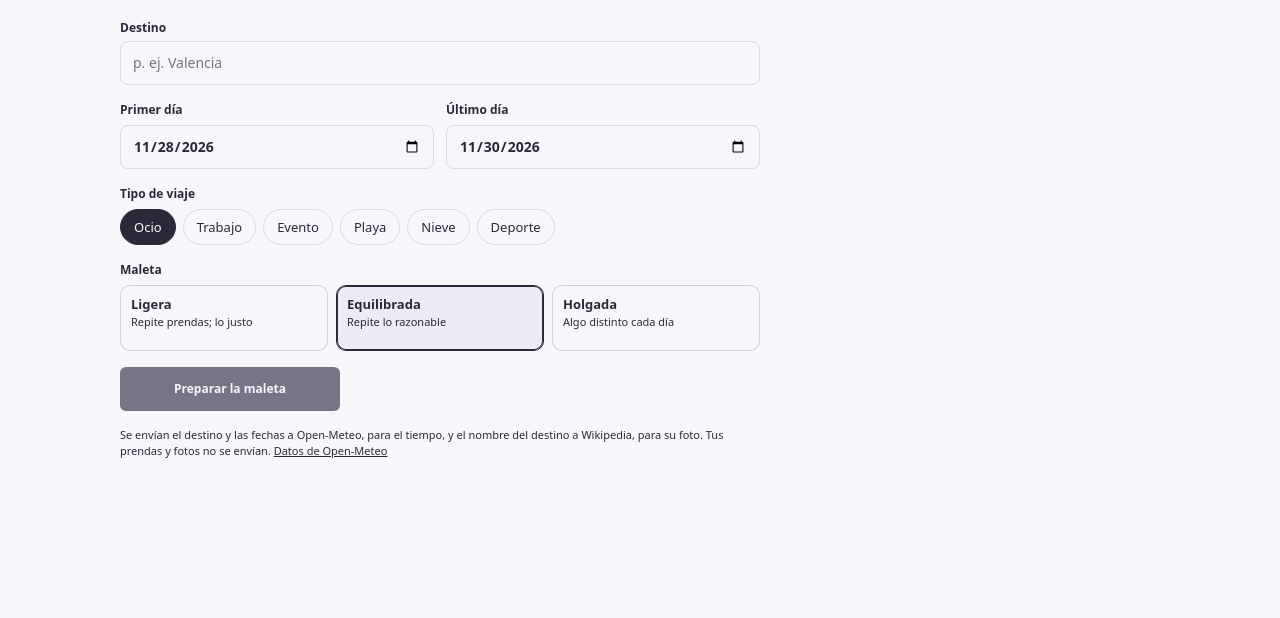
Scenario: TripPlanner › warns of what is in the wash only if the plan needs it, and offers to wear today's outfit
The width and height of the screenshot is (1280, 618).
Type "Valencia" into the dropdown labelled "Destino" at (440, 63), box [120,41,760,85]
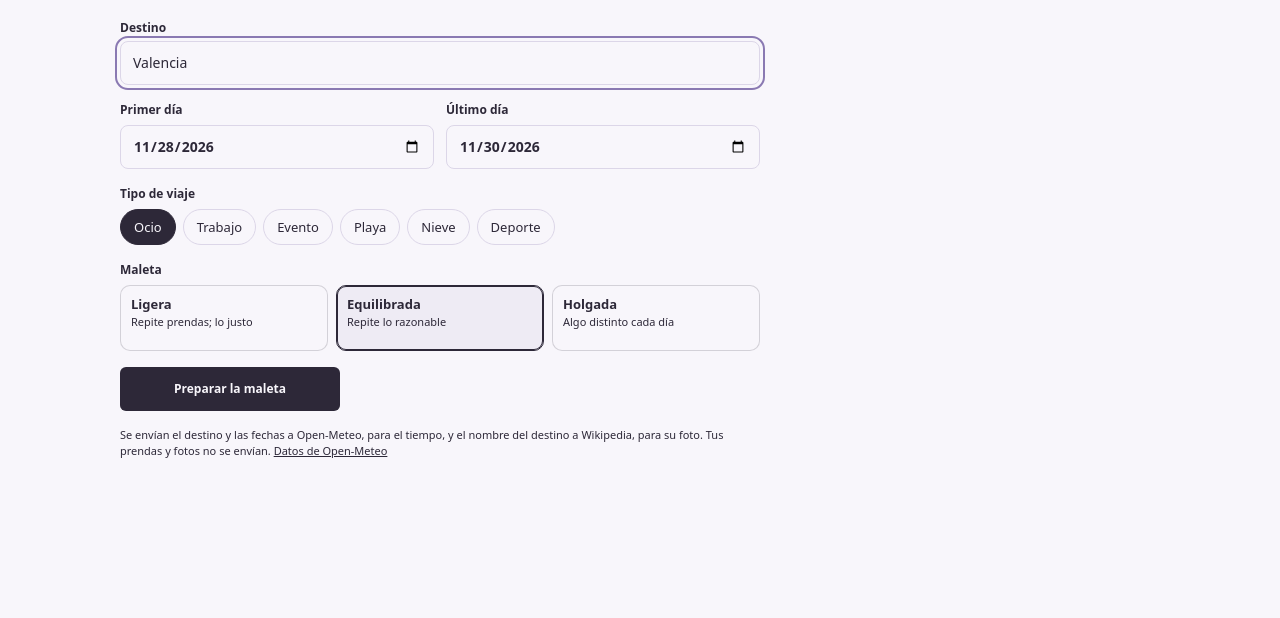
Type "2026-11-27" into the date field labelled "Primer día" at (277, 147), box [120,125,434,169]
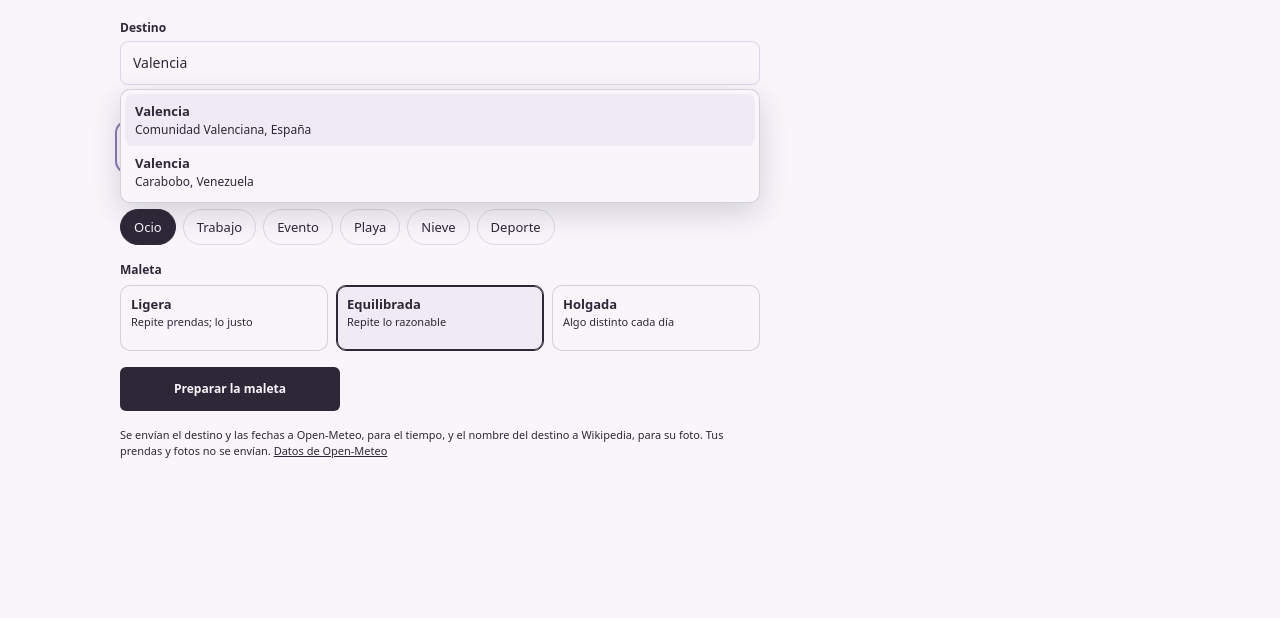
Click the button "Preparar la maleta" at (230, 389), box [120,367,340,411]
(page scrolled)
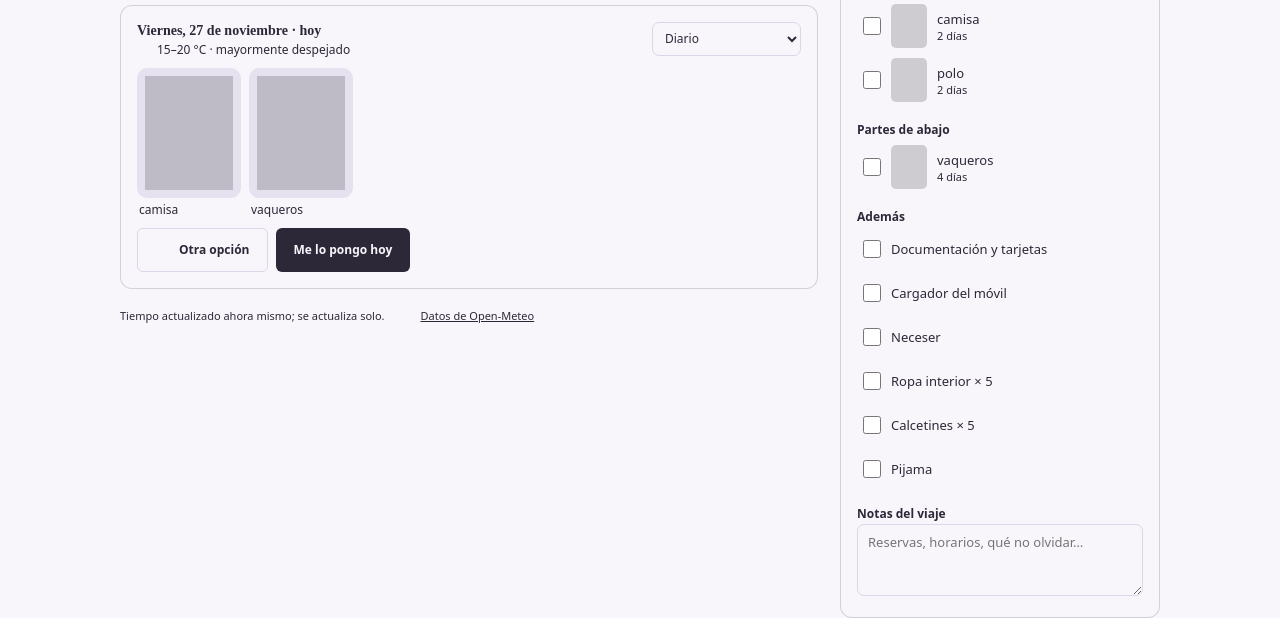
Click the button "Me lo pongo hoy" at (343, 250), box [276,228,410,272]
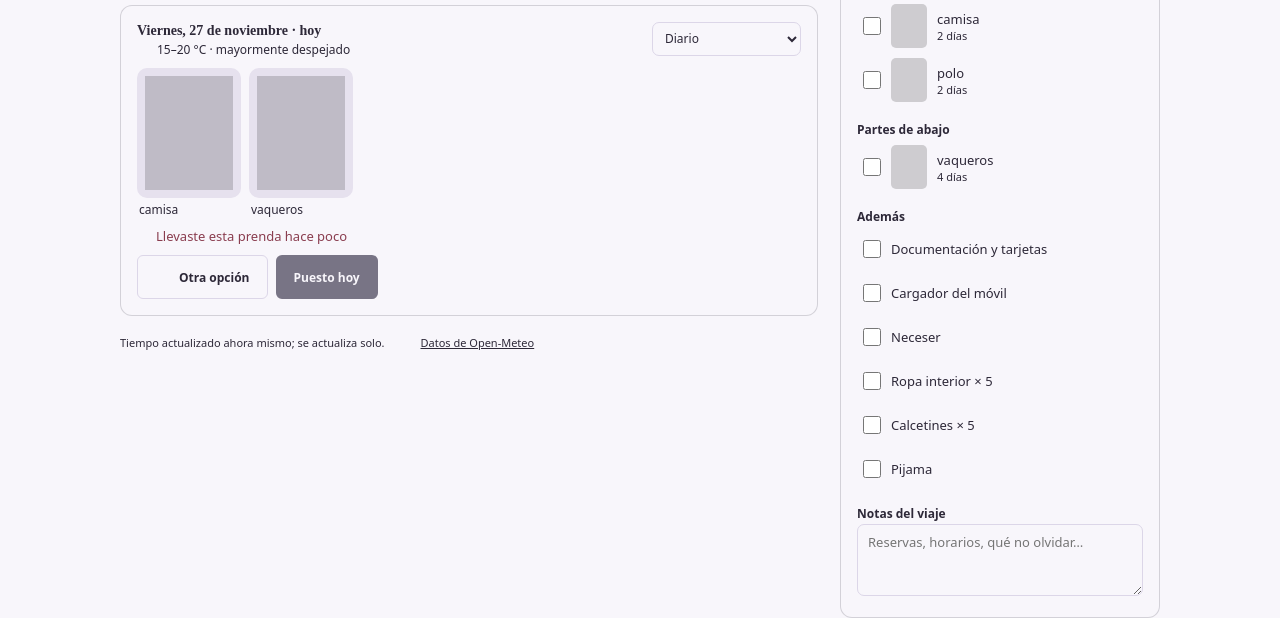
Check: the button "Puesto hoy" is disabled, box [276,255,378,299]
